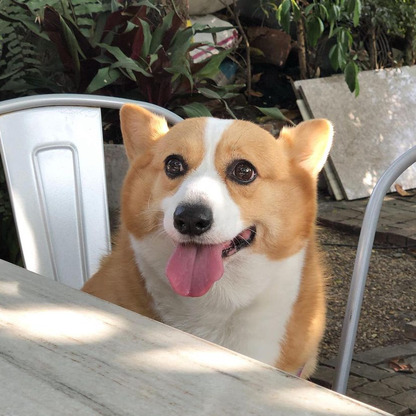Corgi: (83, 92, 348, 368)
